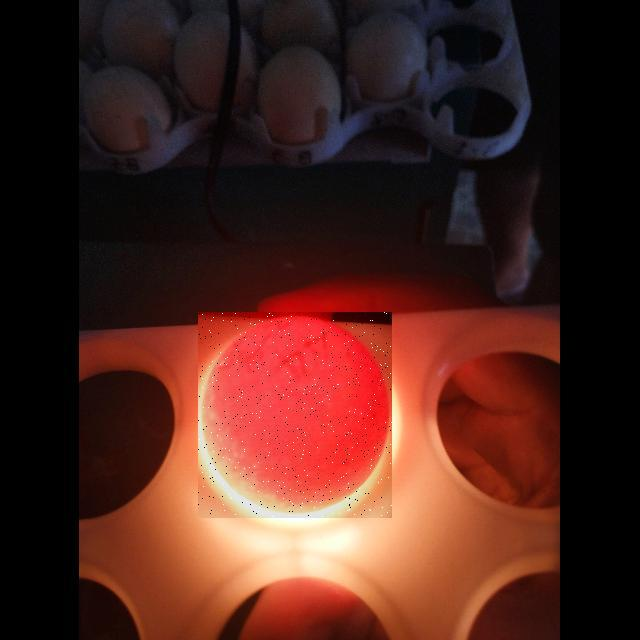A - Good: (198, 312, 392, 518)
